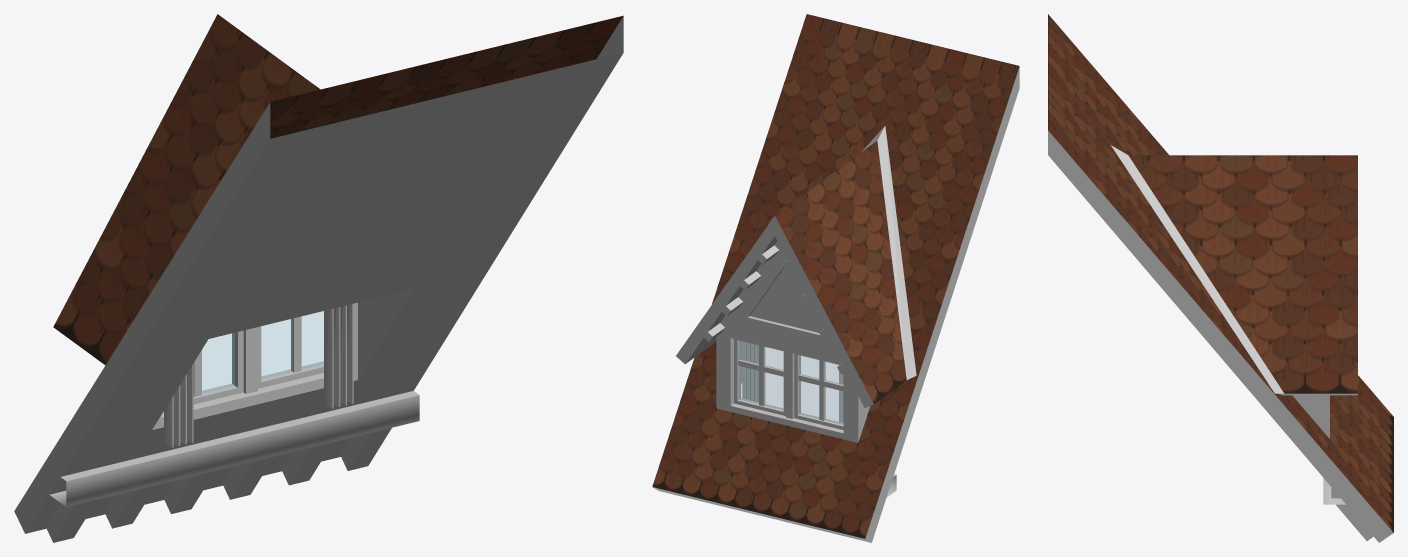
File: Roof_Line_Window_02_B.FBX
The picture shows the model from 3 angles, left to right: view 1: azimuth 30°, elevation 25°; view 2: azimuth 150°, elevation 25°; view 3: azimuth 270°, elevation 25°; orthographic projection. The views are drawn at different scales.
Visible parts, largest first — view 1: Roof_Line_Window_02_B; view 2: Roof_Line_Window_02_B; view 3: Roof_Line_Window_02_B.
Part boxes in pixels (bbox=[...]): Roof_Line_Window_02_B: bbox=[14, 14, 623, 542]; Roof_Line_Window_02_B: bbox=[652, 14, 1019, 542]; Roof_Line_Window_02_B: bbox=[1048, 14, 1393, 542].
Size of the model in its own units: 6 by 10.04 by 7.53.
